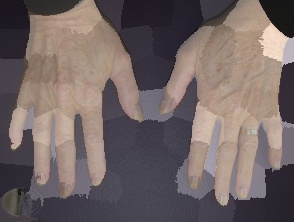Nail_psoriasis: (153, 90, 180, 121), (125, 100, 152, 128), (86, 168, 108, 191), (3, 135, 24, 157), (33, 166, 52, 189), (233, 181, 252, 202), (56, 178, 74, 200), (213, 188, 233, 207), (188, 172, 202, 191), (270, 155, 283, 171)
